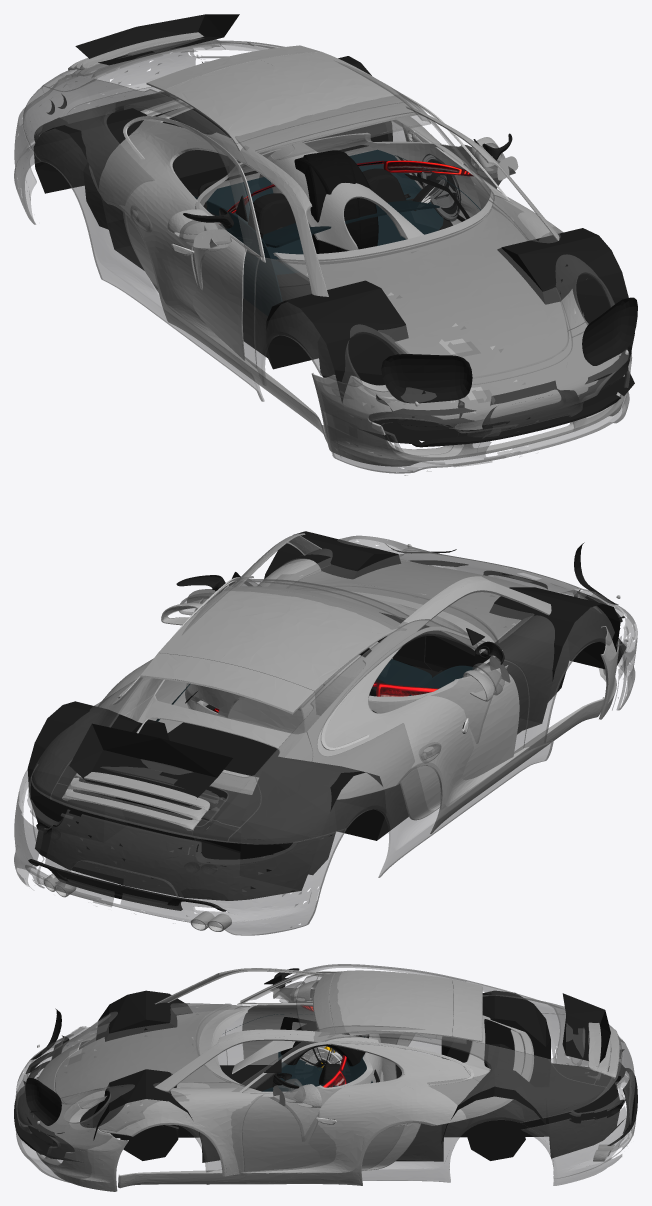
Rendered from porsche.glb.
3 renders of one model, top to bottom at view 1: azimuth 30°, elevation 25°; view 2: azimuth 150°, elevation 25°; view 3: azimuth 270°, elevation 25°, orthographic. The views are drawn at different scales.
Visible parts, largest first — view 1: boot.011, boot.008, underbody, boot.002, boot.011_0.001, boot.010, boot, windshield, boot.001, boot.005, boot.009, boot.004 (+8 smaller); view 2: boot.011, underbody, boot.008, boot.002, boot.011_0.001, boot.001, boot.010, boot.009, boot, window_rear, boot.005, boot.004 (+1 smaller); view 3: boot.008, boot.011, underbody, boot.002, boot.011_0.001, boot.010, boot.001, boot.009, boot, boot.005, window_rear, windshield (+2 smaller).
Boxes of the visible parts, bbox=[...] form: boot.011: bbox=[14, 38, 632, 473]; boot.008: bbox=[68, 32, 624, 466]; underbody: bbox=[33, 14, 634, 444]; boot.002: bbox=[89, 99, 559, 442]; boot.011_0.001: bbox=[26, 44, 586, 475]; boot.010: bbox=[34, 92, 634, 447]; boot: bbox=[47, 62, 637, 403]; windshield: bbox=[198, 141, 452, 287]; boot.001: bbox=[193, 133, 515, 290]; boot.005: bbox=[259, 142, 423, 250]; boot.009: bbox=[123, 89, 628, 406]; boot.004: bbox=[194, 155, 480, 315]; boot.011: bbox=[25, 535, 637, 935]; underbody: bbox=[27, 531, 626, 900]; boot.008: bbox=[62, 559, 619, 830]; boot.002: bbox=[98, 533, 604, 833]; boot.011_0.001: bbox=[14, 558, 629, 927]; boot.001: bbox=[185, 597, 508, 743]; boot.010: bbox=[28, 560, 624, 911]; boot.009: bbox=[43, 544, 620, 931]; boot: bbox=[36, 542, 618, 874]; window_rear: bbox=[377, 659, 431, 686]; boot.005: bbox=[300, 641, 392, 732]; boot.004: bbox=[156, 665, 474, 721]; boot.008: bbox=[33, 970, 619, 1191]; boot.011: bbox=[15, 964, 635, 1184]; underbody: bbox=[28, 990, 625, 1162]; boot.002: bbox=[118, 968, 533, 1188]; boot.011_0.001: bbox=[17, 971, 636, 1185]; boot.010: bbox=[14, 968, 637, 1154]; boot.001: bbox=[268, 988, 383, 1141]; boot.009: bbox=[37, 971, 614, 1161]; boot: bbox=[25, 1008, 626, 1125]; boot.005: bbox=[232, 1032, 402, 1081]; window_rear: bbox=[278, 1051, 322, 1085]; windshield: bbox=[272, 1034, 379, 1087].
Size of the model in its own units: 64736 by 36991 by 143436.
Materials: 13 (3 with a texture image).
